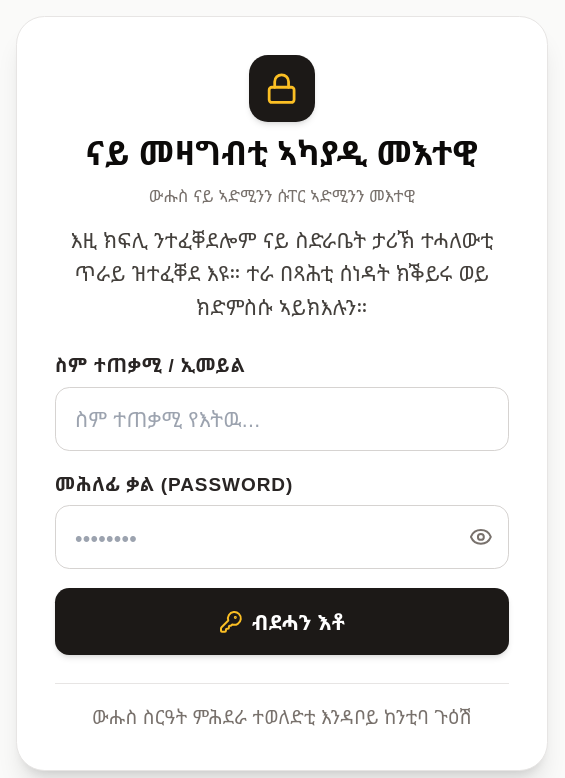
UI Navigation, Tree Interaction, and Safety Verification › 5. AdminPanel: enforces authentication gate and rejects invalid credentials with generic message
Expected: the heading "ናይ መዛግብቲ ኣካያዲ መእተዊ" is shown, [55,131,509,174]
Type "archivist" into the field with placeholder "ስም ተጠቃሚ የእትዉ...". click: (282, 419)
box: [55,387,509,451]
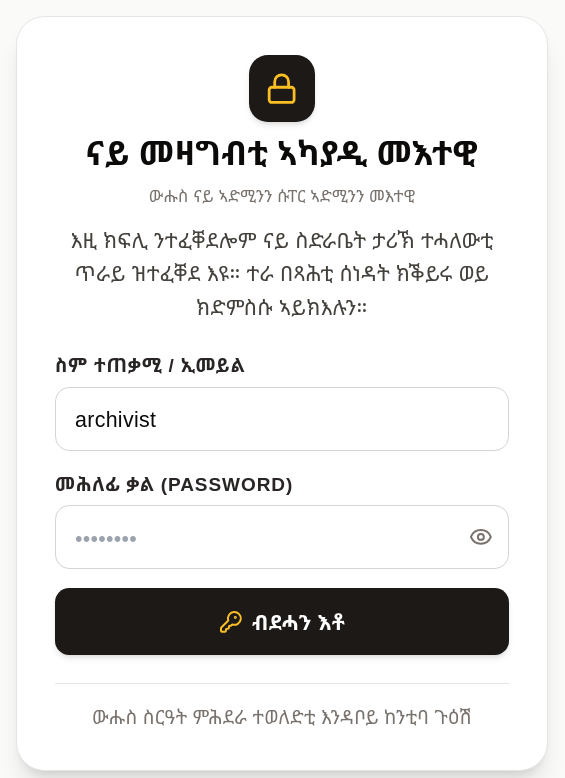
Type "bad" into the password field with placeholder "••••••••". click: (282, 537)
box: [55,505,509,569]
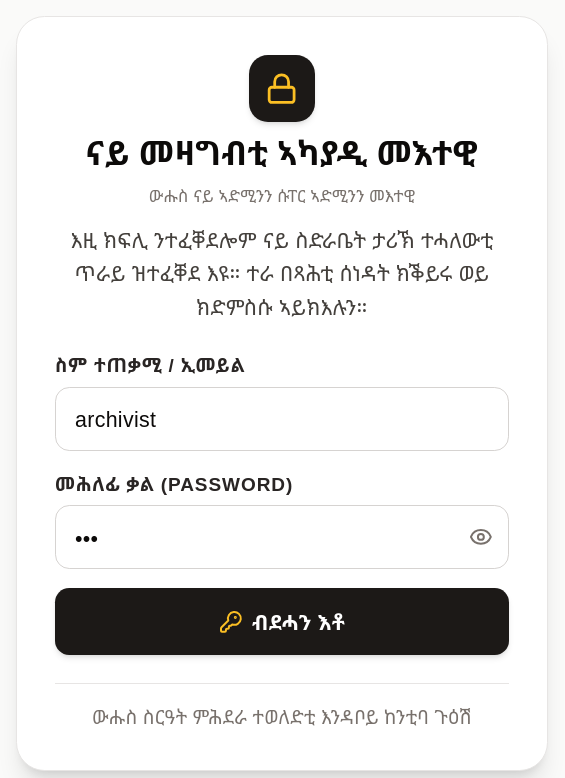
Click the button "ብደሓን እቶ". click: (282, 621)
box: [55,588,509,655]
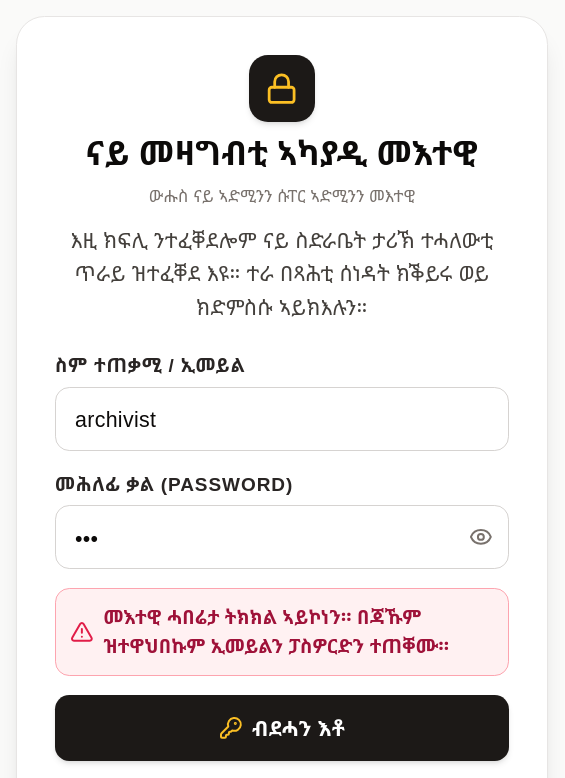
Now the text "መእተዊ ሓበሬታ ትክክል ኣይኮነን። በጃኹም ዝተዋህበኩም ኢመይልን ፓስዎርድን ተጠቐሙ።" is shown, box [104,603,494,660]
